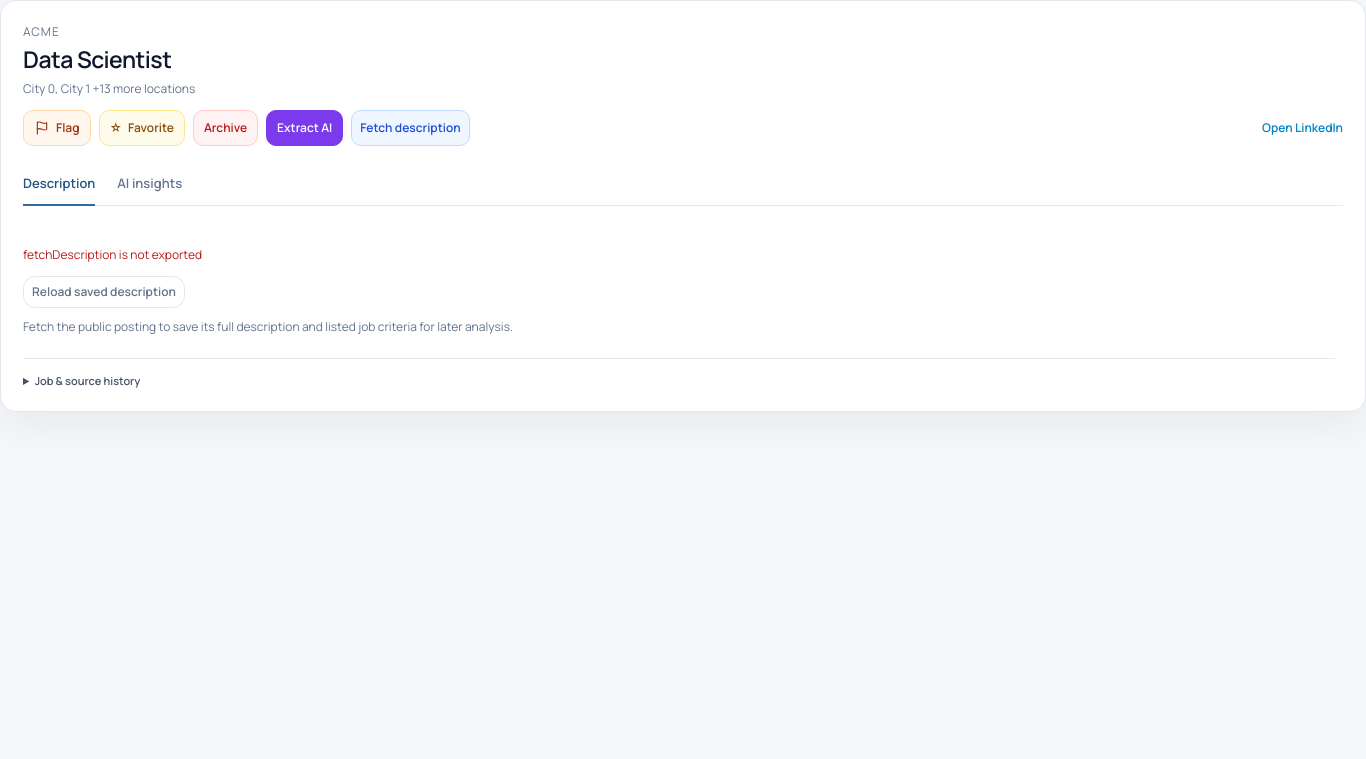
minimal job details › keeps every matching city link in a compact expandable group
This screenshot has width=1366, height=759.
Expected: the text "City 0, City 1 +13 more locations" is shown, [23,80,195,98]
Step 1. Click the heading "Job & source history" → (87, 380), box [35,372,140,388]
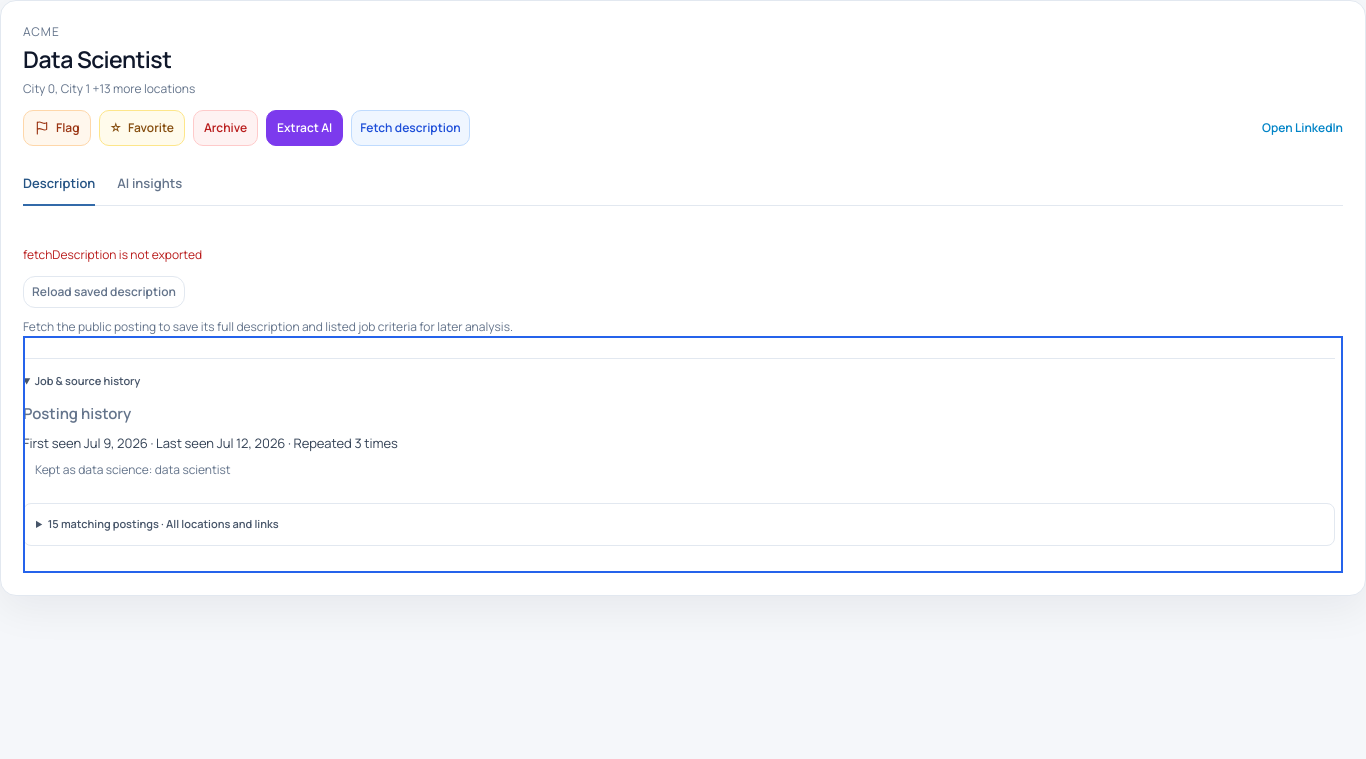
Step 2. Click the heading "15 matching postings · All locations and links" → (163, 524), box [48,516,278,531]
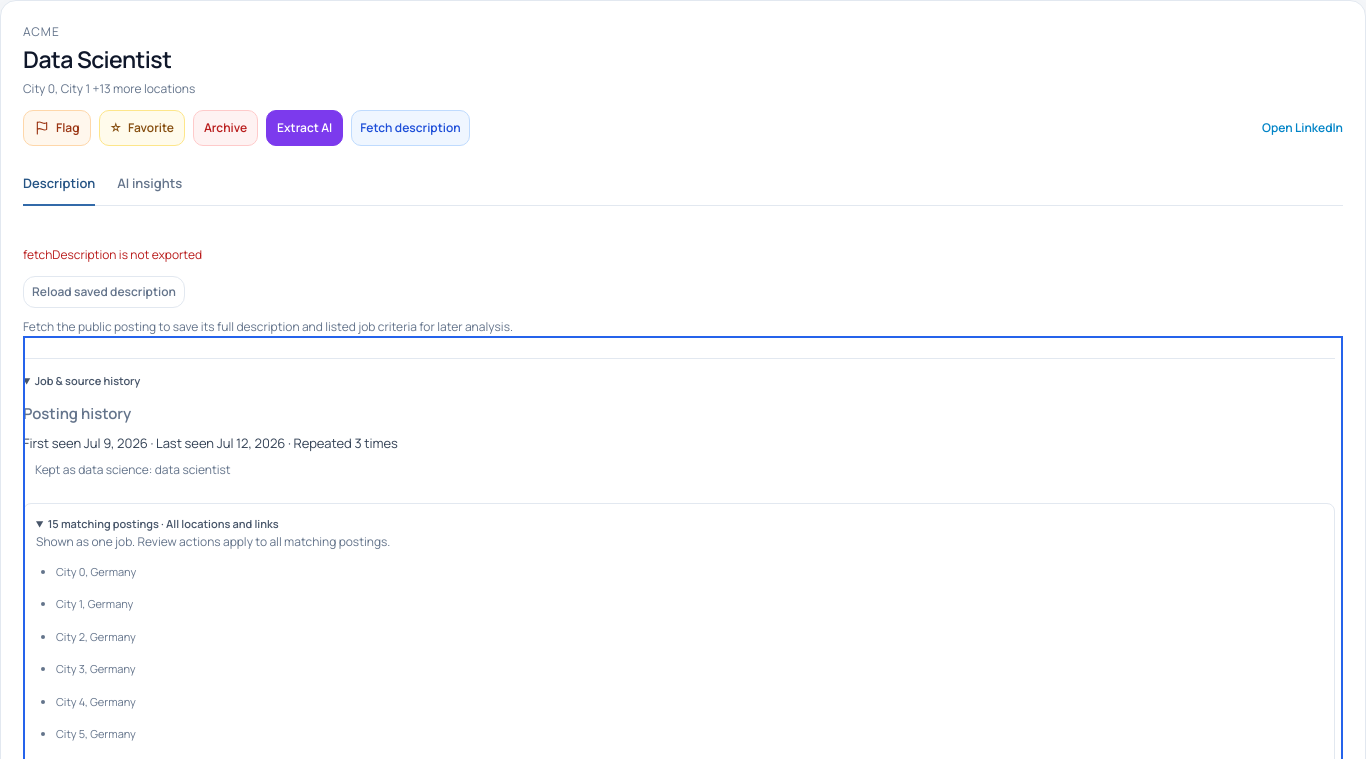
Now the text "Review actions apply to all matching postings" is shown, box [36,532,390,550]
